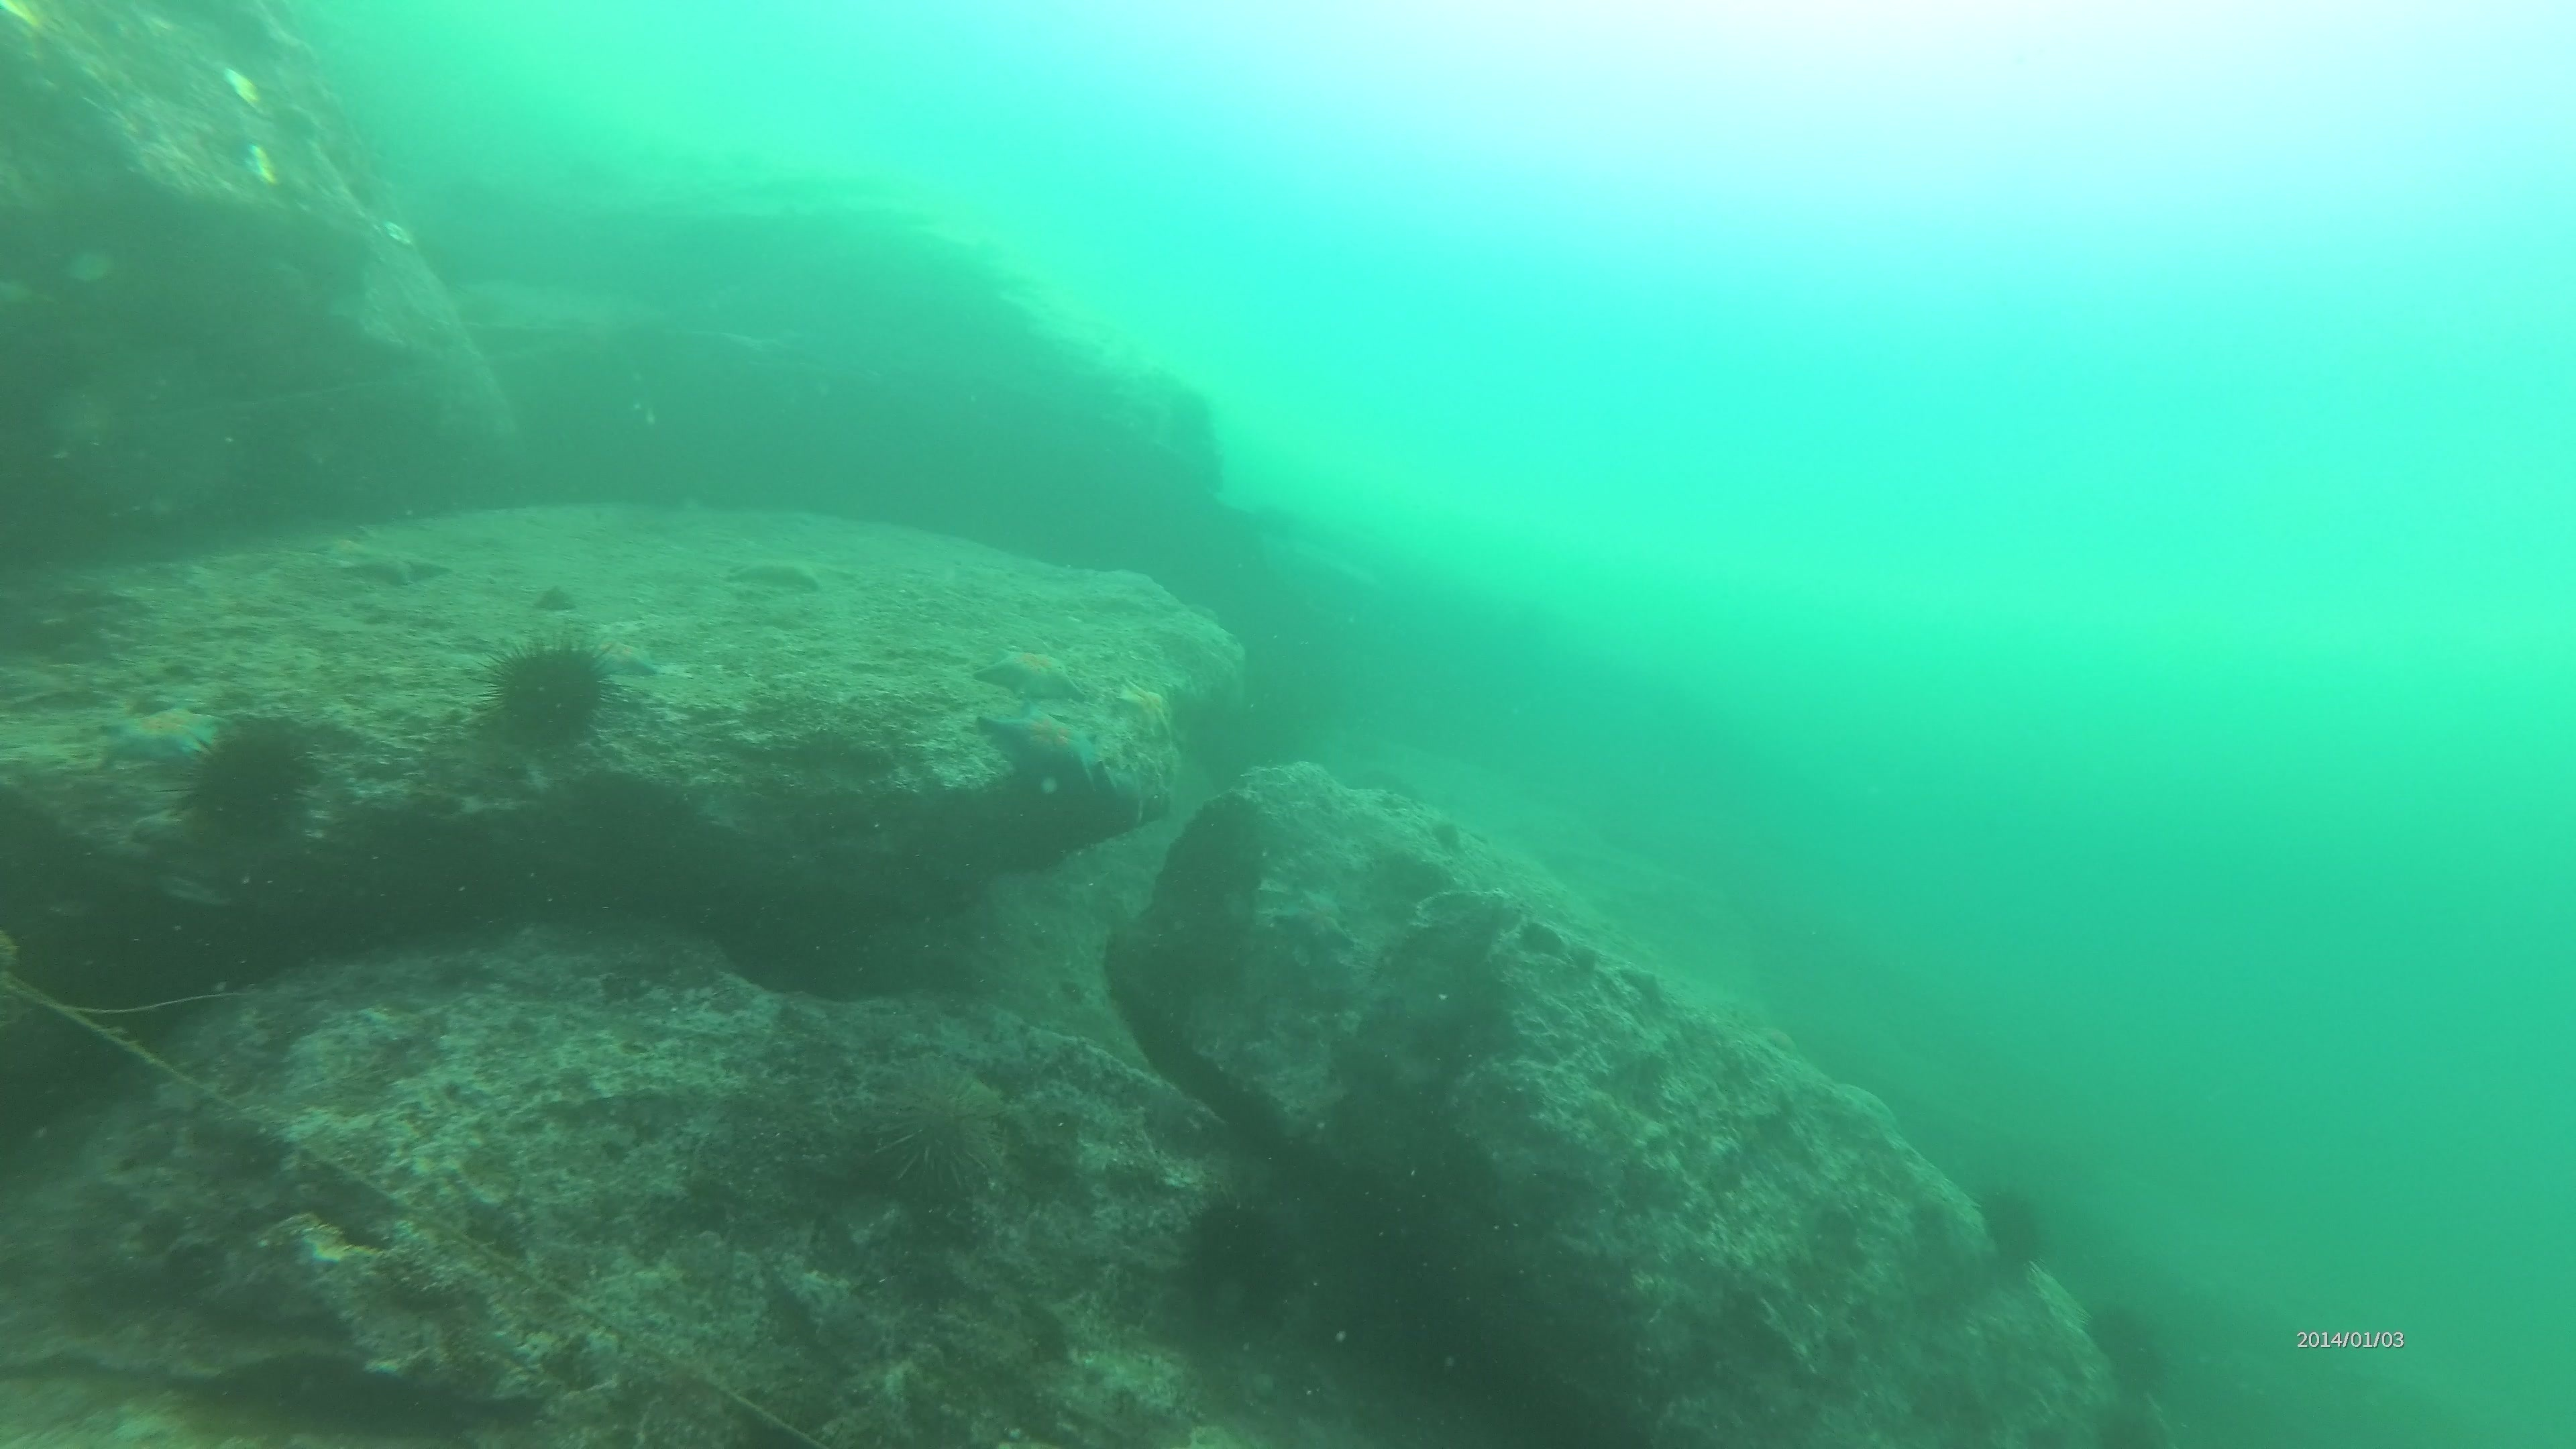echinus: (856, 1053, 1017, 1210), (172, 711, 327, 858), (478, 630, 623, 763), (1169, 1182, 1302, 1323), (2079, 1293, 2181, 1407), (1967, 1177, 2059, 1284)
starfish: (973, 701, 1123, 807), (94, 697, 228, 771), (971, 640, 1093, 708), (327, 533, 458, 593), (575, 619, 671, 690), (722, 552, 840, 598)
